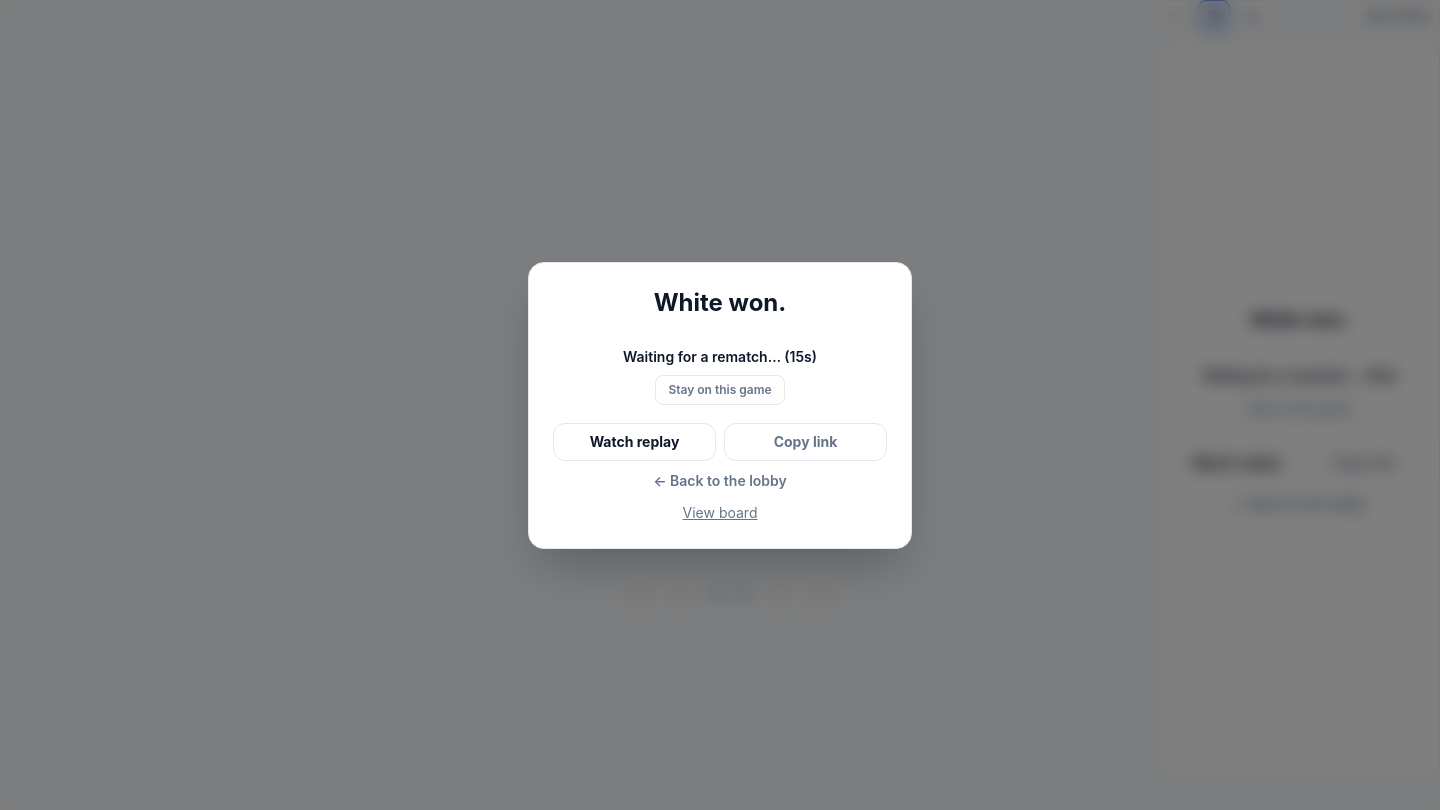
Test case: live board — spectator rematch following › "Stay on this game" keeps the viewer put and offers the successor explicitly
The image size is (1440, 810).
Click the button "Stay on this game": (720, 390) [655, 374, 785, 404]
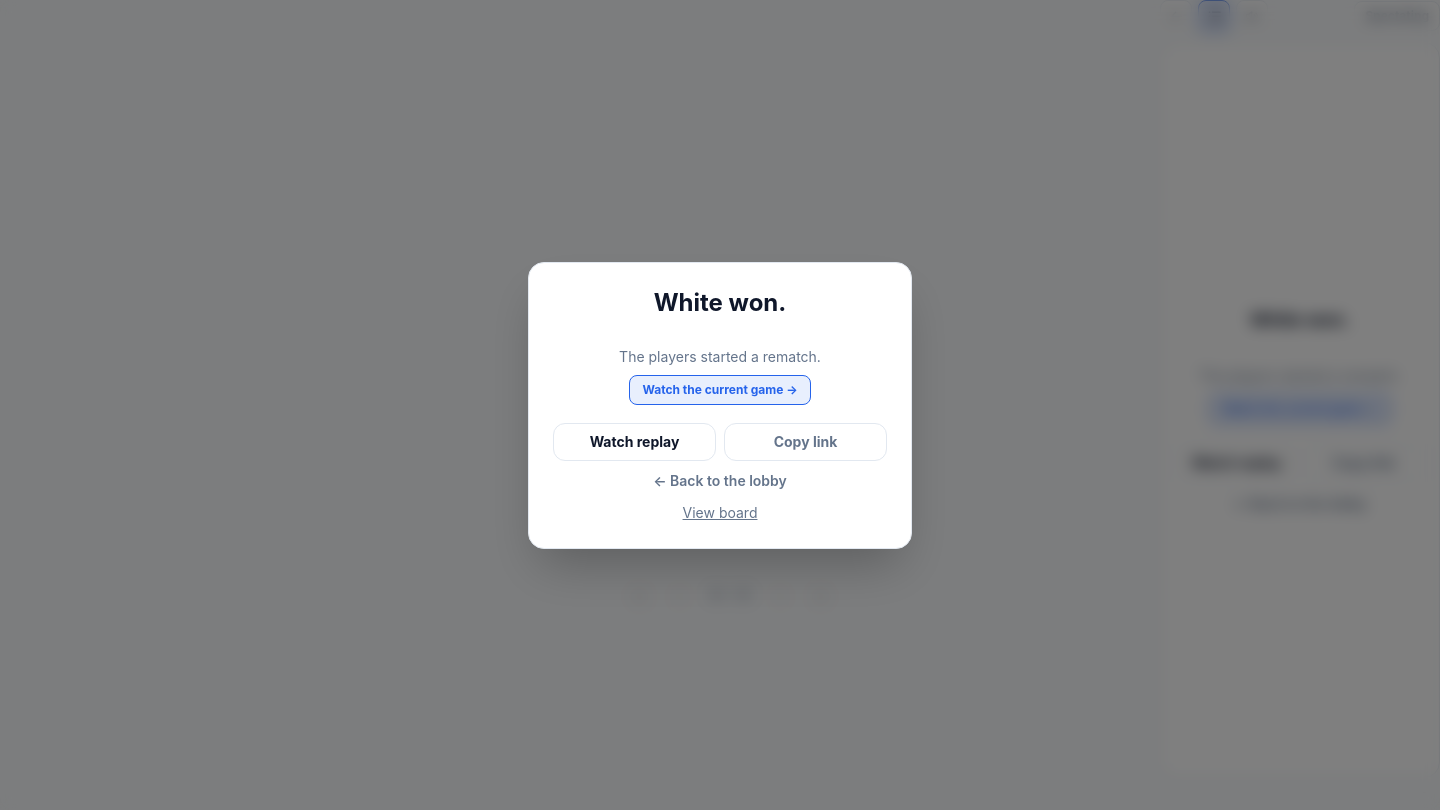
Result: the text "The players started a rematch." is shown at [619, 346, 821, 366]
Result: the button "Watch the current game →" is shown at [629, 374, 811, 404]
